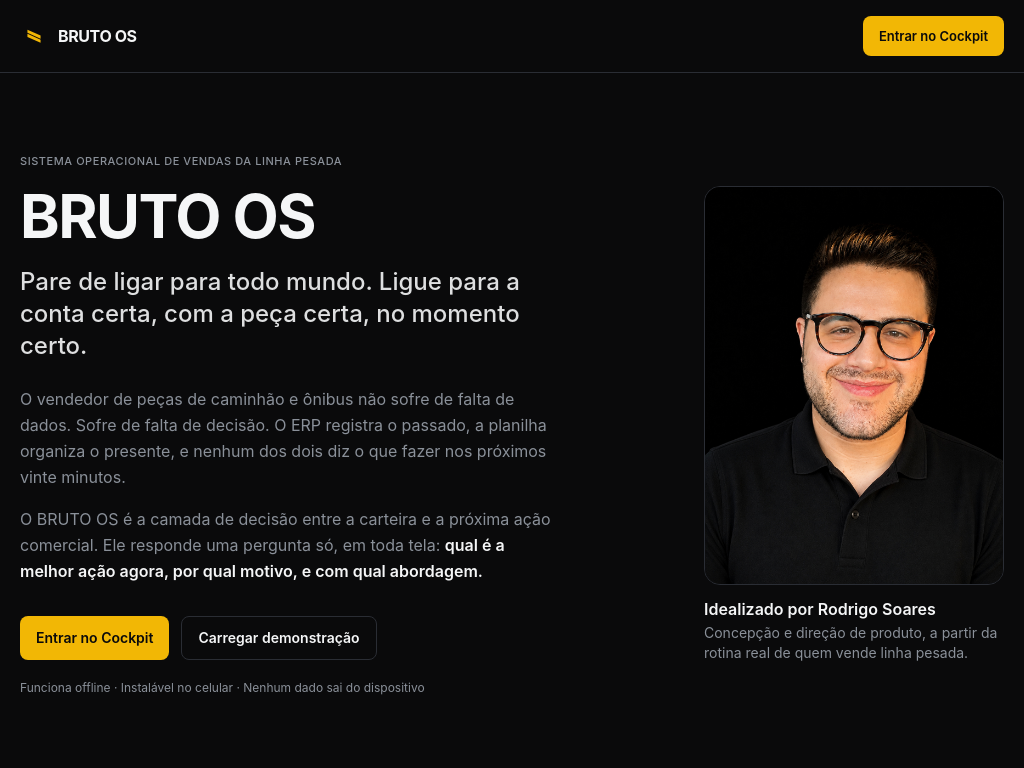
Test: cockpit com dados de demonstração › carrega a carteira e mostra o selo de demonstração
The width and height of the screenshot is (1024, 768).
Click the 1st link "Entrar no Cockpit". click: click(933, 36)
box: [863,16,1004,56]
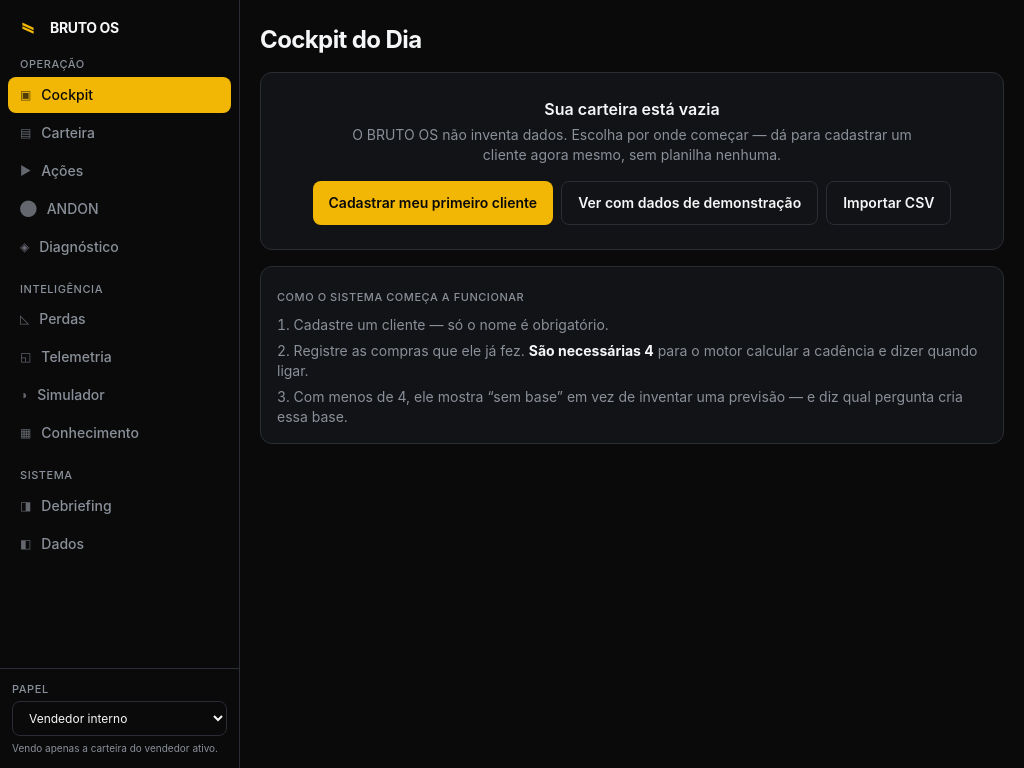
Click the button "Ver com dados de demonstração". click: click(690, 203)
box: [561,181,818,225]
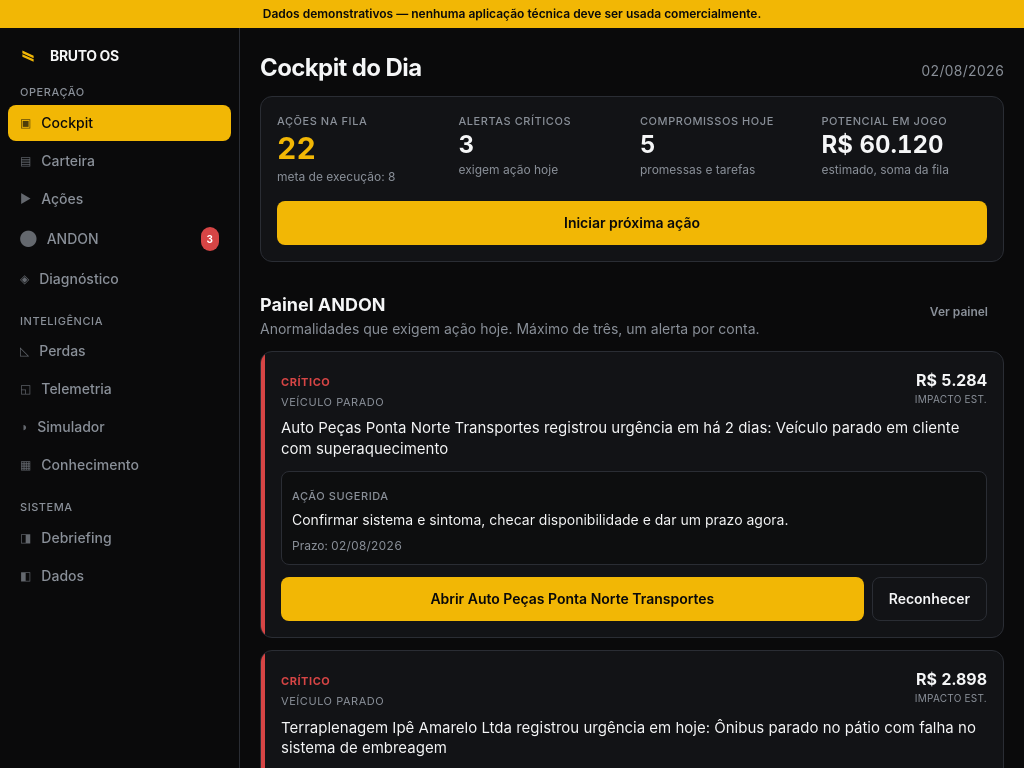
Result: the text "Sua carteira está vazia" is gone
Result: the text "nenhuma aplicação técnica deve ser usada comercialmente" is shown at [263,6,761,21]
